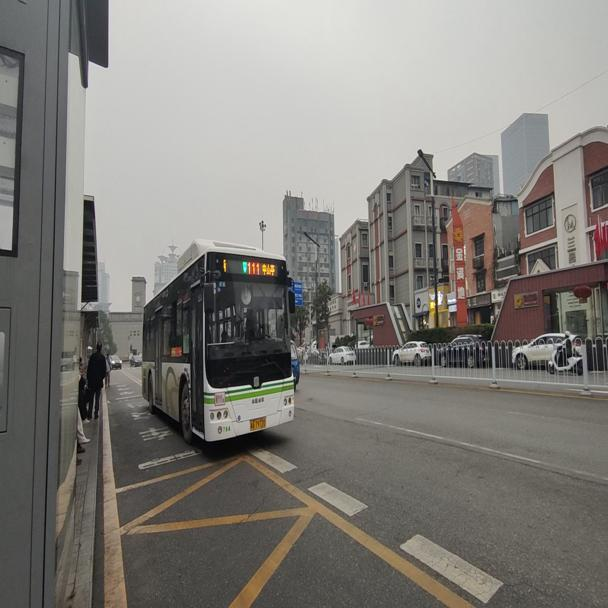bus: (142, 238, 294, 445)
screen: (246, 256, 259, 276)
